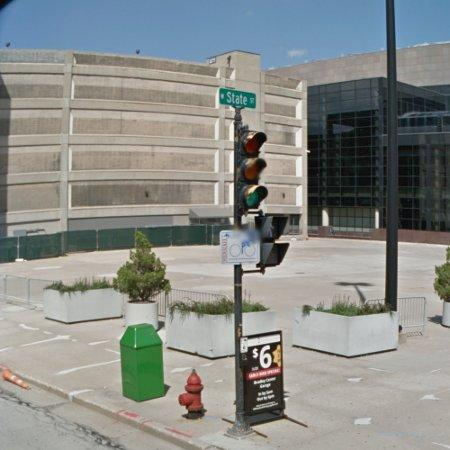traffic lights: (256, 217, 290, 270)
